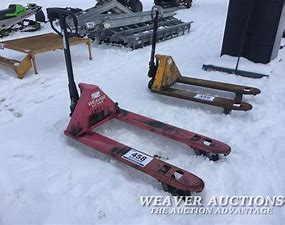Pallet Jack: (46, 7, 232, 204), (148, 6, 262, 113)
